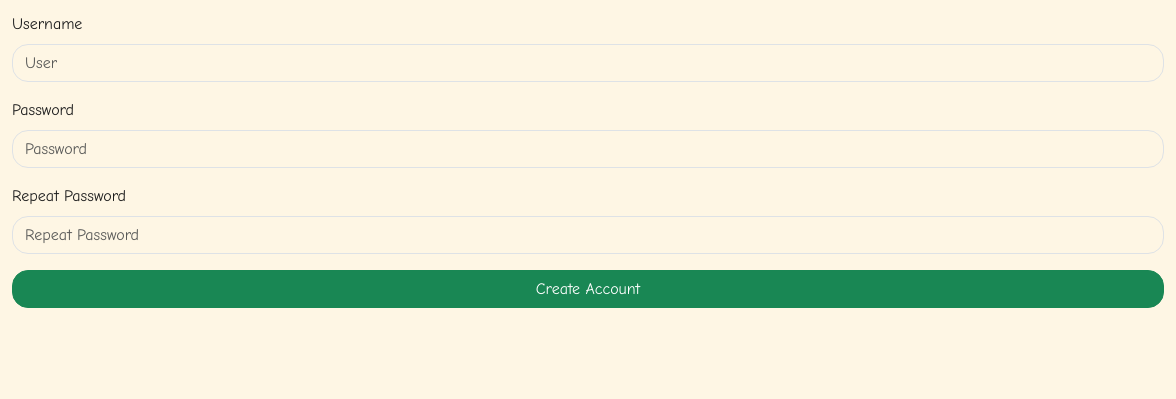
Test case: CreateAccountForm › shows a specific error message on API failures when provided
Type "someuser" into the field labelled "Username" at (588, 63), box x1=12 y1=44 x2=1164 y2=82
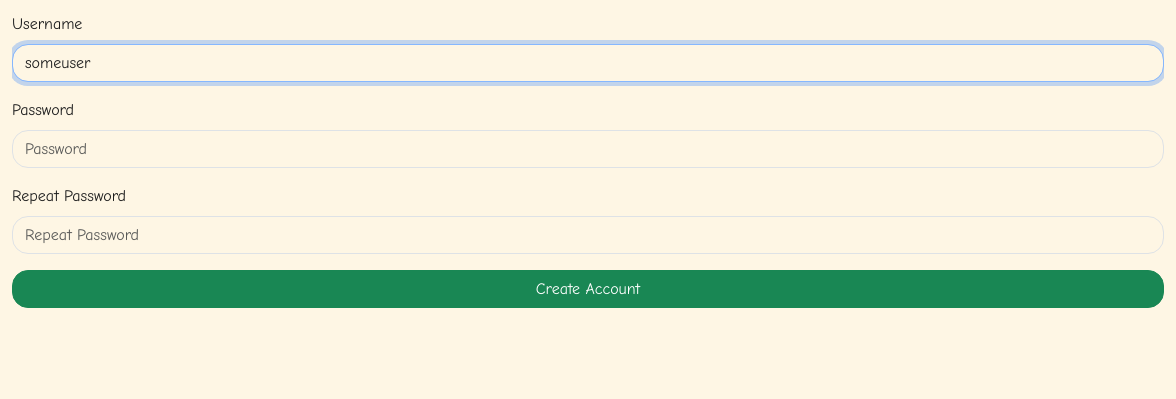
Type "somepassword" into the password field labelled "Password" at (588, 149), box x1=12 y1=130 x2=1164 y2=168
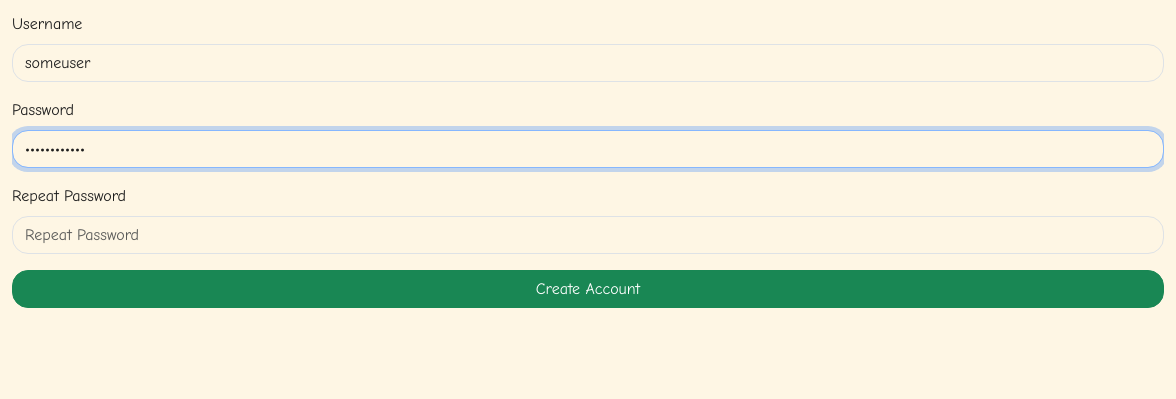
Type "somepassword" into the password field labelled "Repeat Password" at (588, 235), box x1=12 y1=216 x2=1164 y2=254
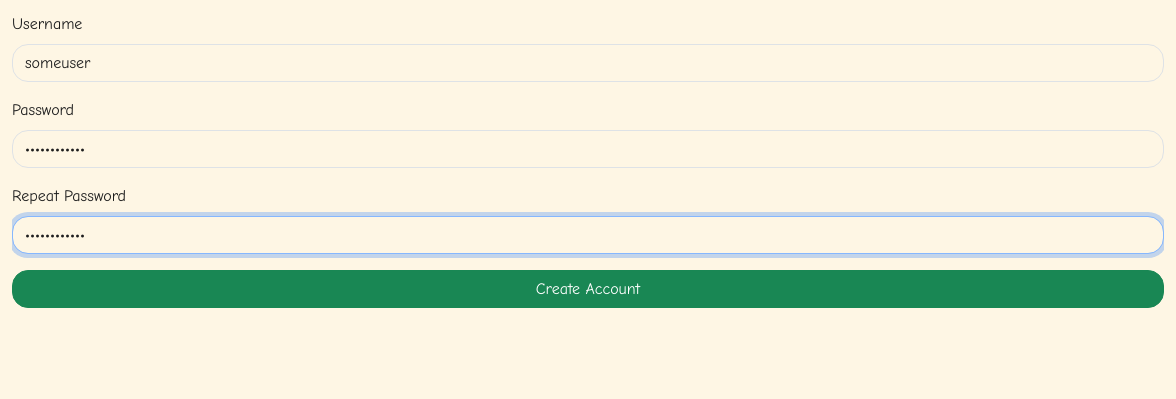
Click the button "Create Account" at (588, 289), box x1=12 y1=270 x2=1164 y2=308
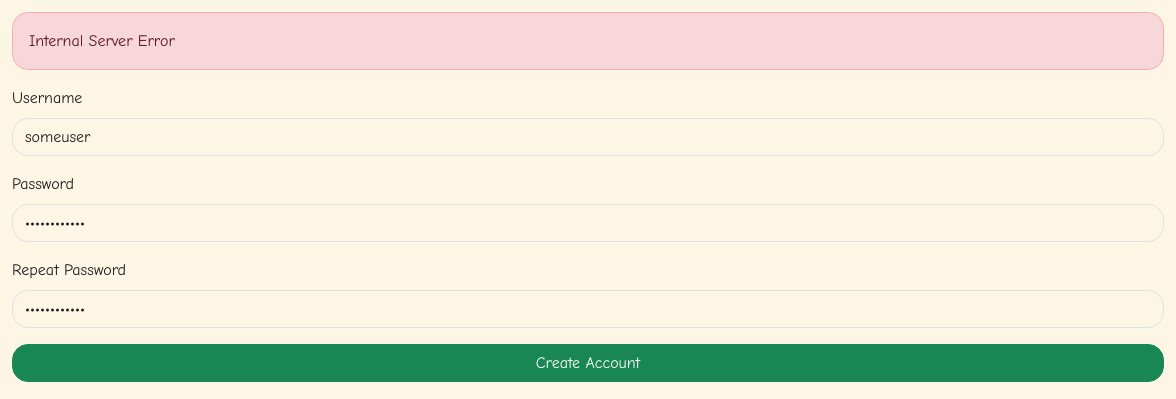
Expected: the text "Internal Server Error" is shown, x1=12 y1=12 x2=1164 y2=70
